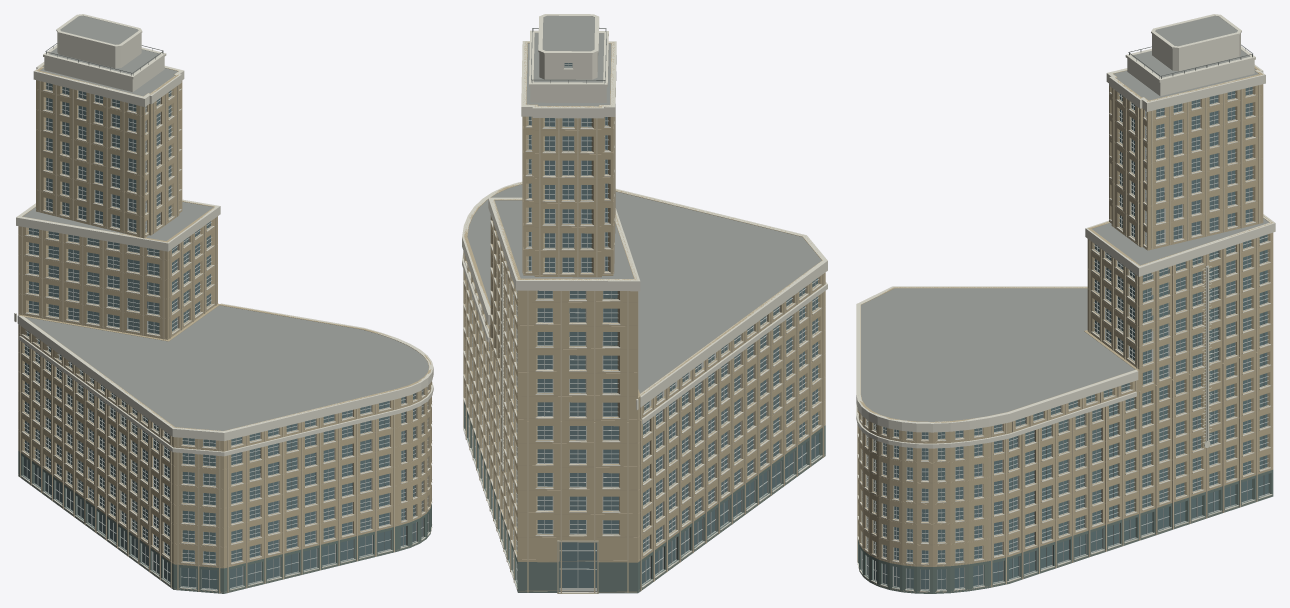
File: huangpu-new-wing-on-company-web.glb
3 renders of one model, left to right at view 1: azimuth 30°, elevation 25°; view 2: azimuth 150°, elevation 25°; view 3: azimuth 270°, elevation 25°, orthographic. The views are drawn at different scales.
Parts seen in each view (by area): view 1: 新永安公司／七重天大厦历史外观候选; view 2: 新永安公司／七重天大厦历史外观候选; view 3: 新永安公司／七重天大厦历史外观候选.
Part boxes in pixels (left/top/right/bottom): 新永安公司／七重天大厦历史外观候选: left=14, top=14, right=433, bottom=593; 新永安公司／七重天大厦历史外观候选: left=462, top=14, right=827, bottom=593; 新永安公司／七重天大厦历史外观候选: left=856, top=14, right=1275, bottom=593.
Bounding box in the file's own units: 46.07 × 72 × 59.17.
